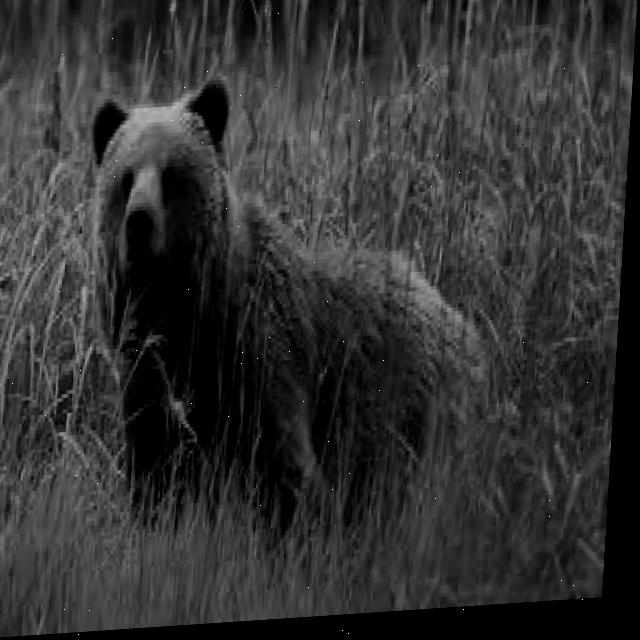Bear: (54, 58, 520, 551)
